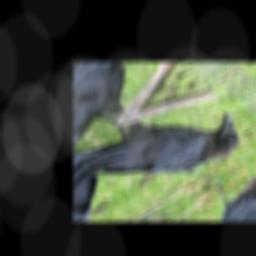Crow: (74, 79, 256, 212)
